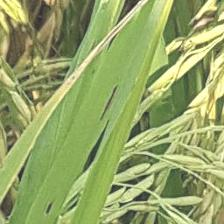2 BacterialBlight: (52, 5, 156, 95)
